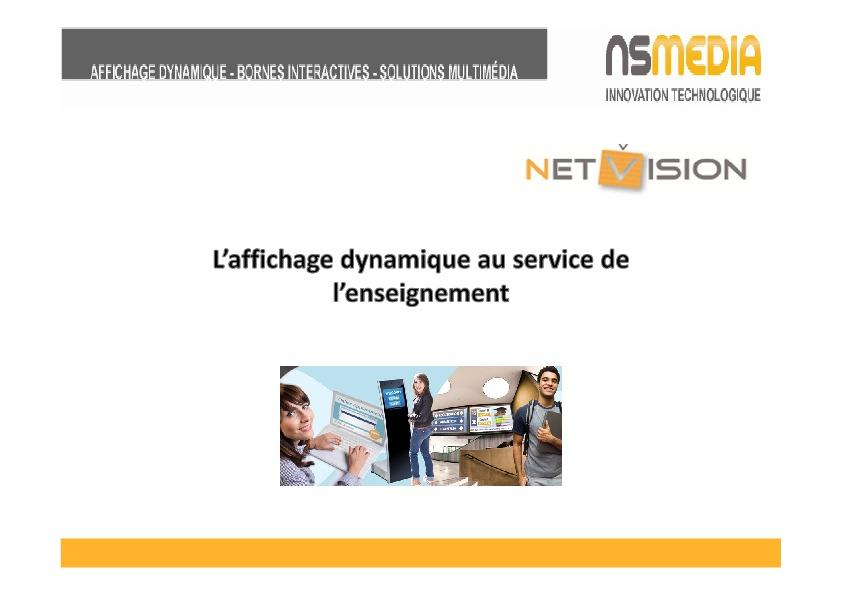subtitle: (193, 228, 665, 327), (519, 136, 779, 192)
title: (60, 22, 793, 113)
